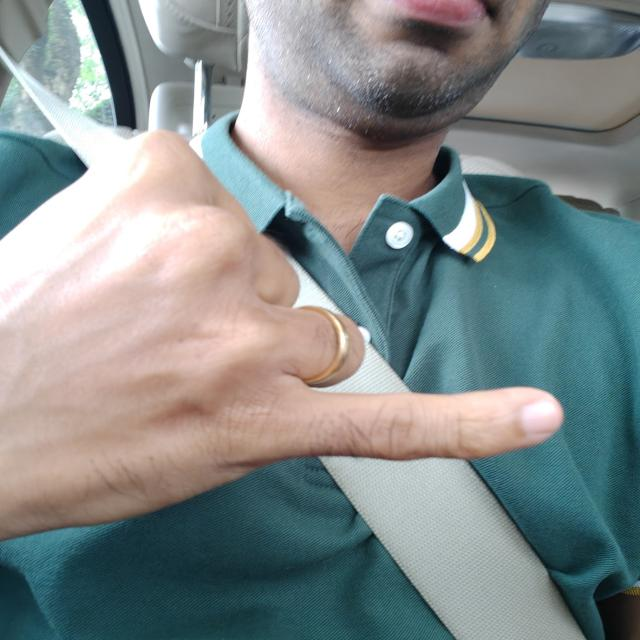pinky: (218, 374, 571, 501)
